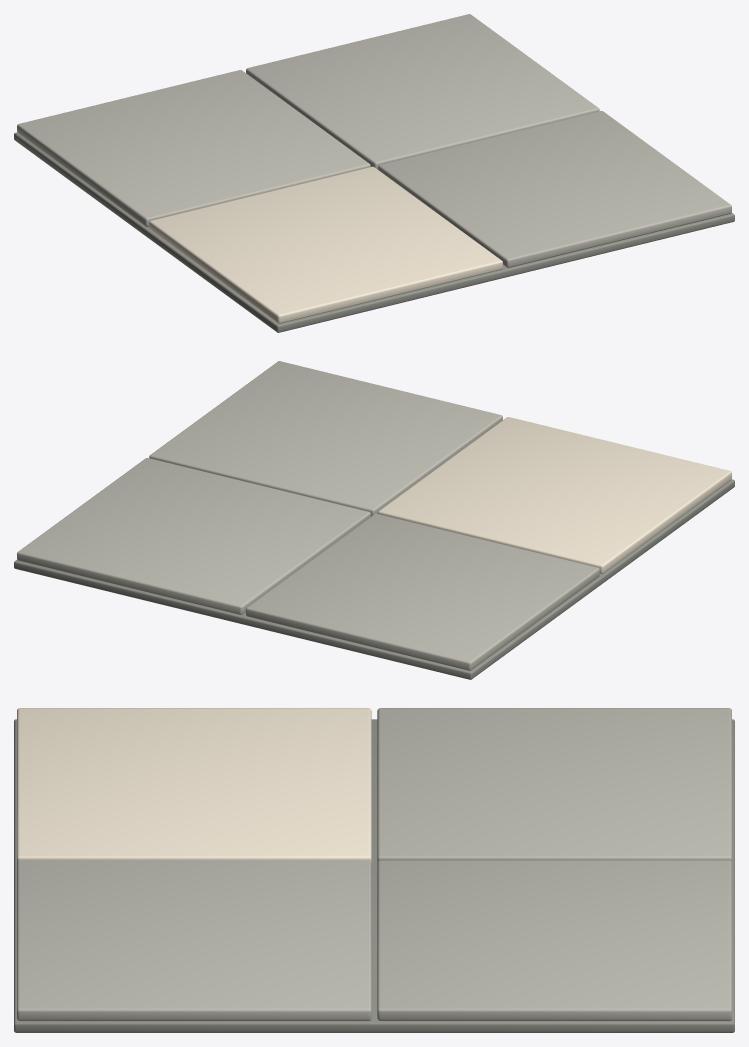
The model's file is concrete-patio.glb.
3 views of the same model, one above another, from view 1: azimuth 30°, elevation 25°; view 2: azimuth 150°, elevation 25°; view 3: azimuth 270°, elevation 25° (orthographic). The views are drawn at different scales.
Parts seen in each view (by area): view 1: concrete-patio; view 2: concrete-patio; view 3: concrete-patio.
Boxes of the visible parts, x1,y1,x2,y2 form: concrete-patio: [14, 14, 734, 332]; concrete-patio: [14, 361, 734, 679]; concrete-patio: [14, 708, 734, 1032].
Bounding box in the file's own units: 2 × 0.07 × 2.
